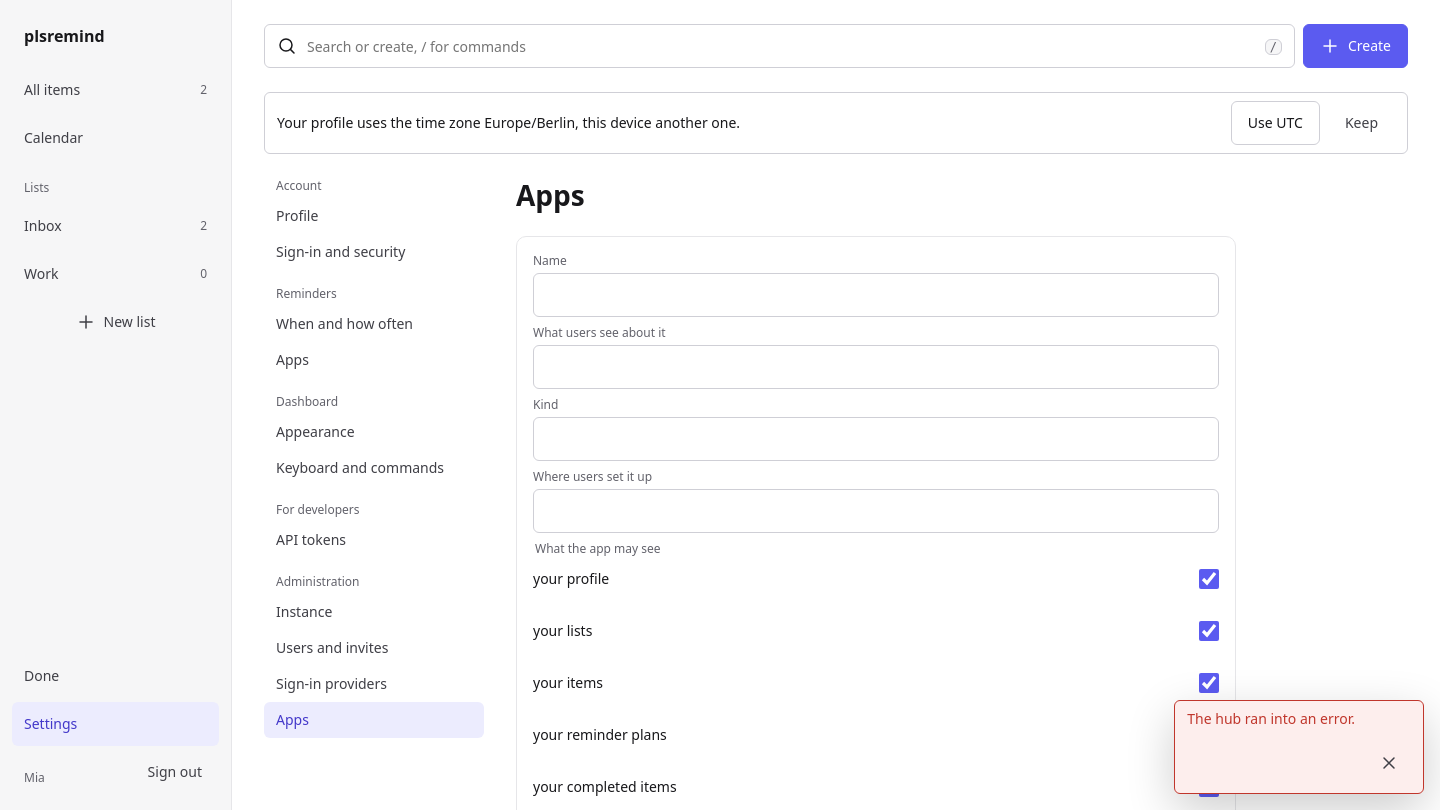
Scenario: an app added while the list did not load brings the whole list
Step 1. Type "Hook" into the field labelled "Name" → (876, 295), box 533,273 -> 1219,317
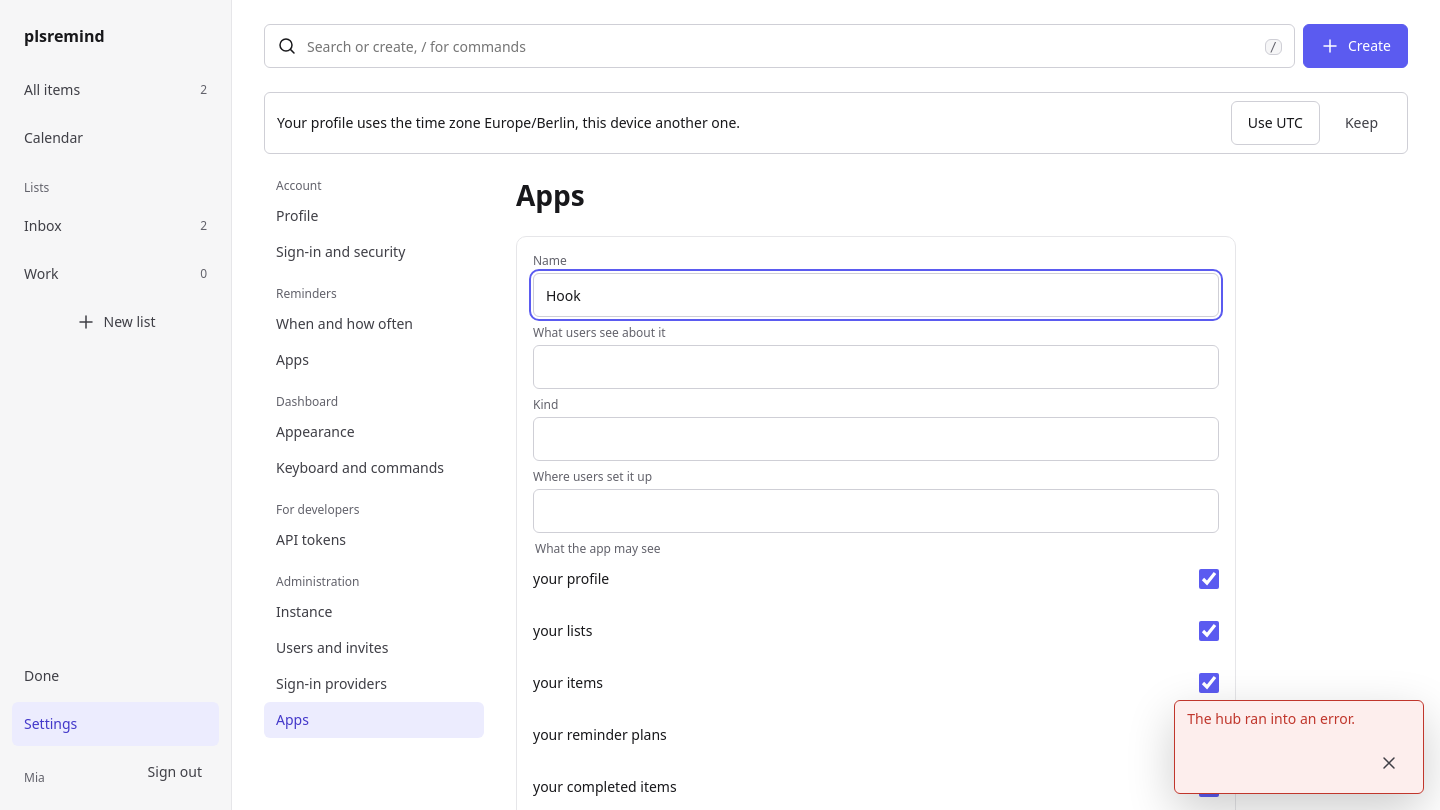
Step 2. Type "corp" into the field labelled "Kind" → (876, 439), box 533,417 -> 1219,461
(page scrolled)
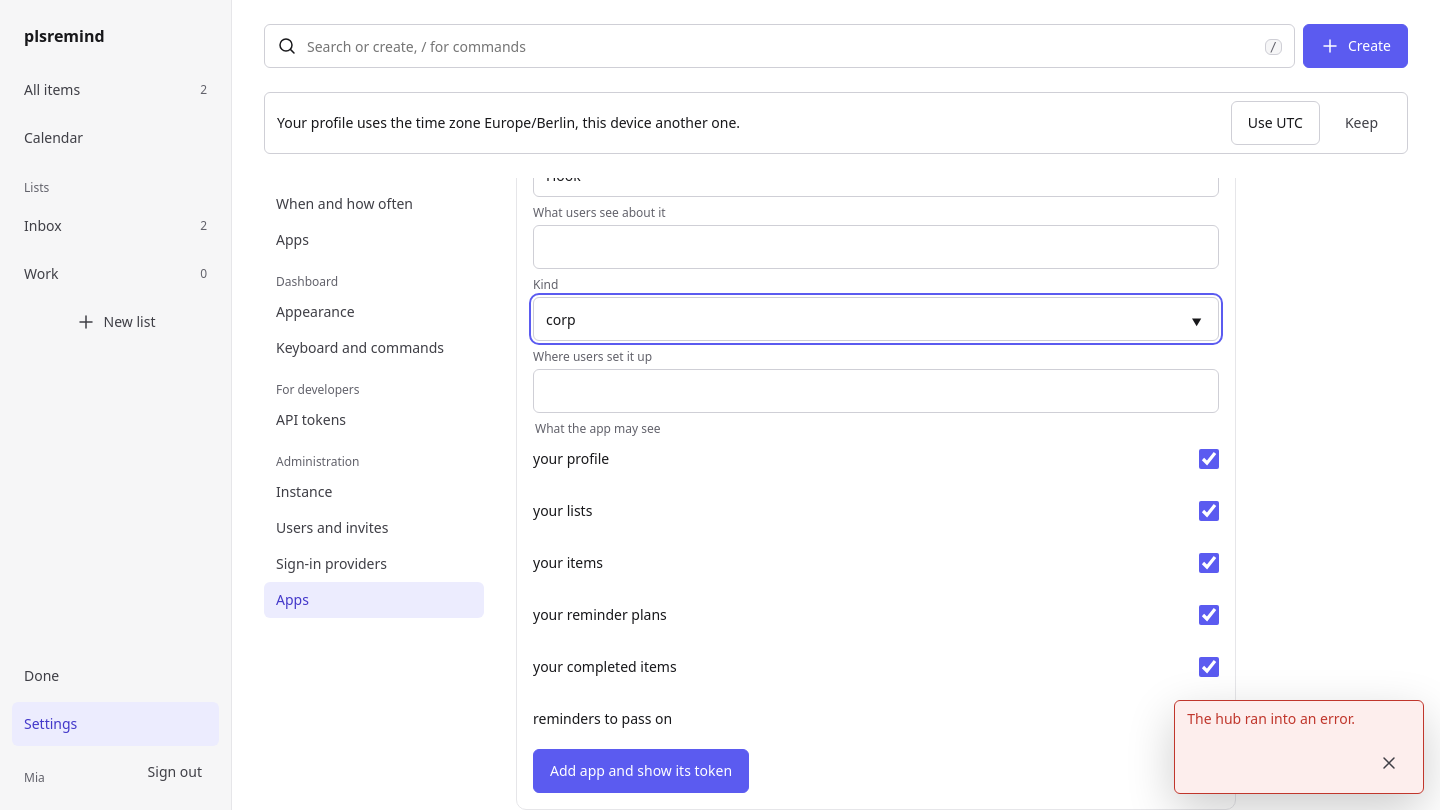
Step 3. Click the button "Add app and show its token" → (641, 771), box 533,749 -> 749,793
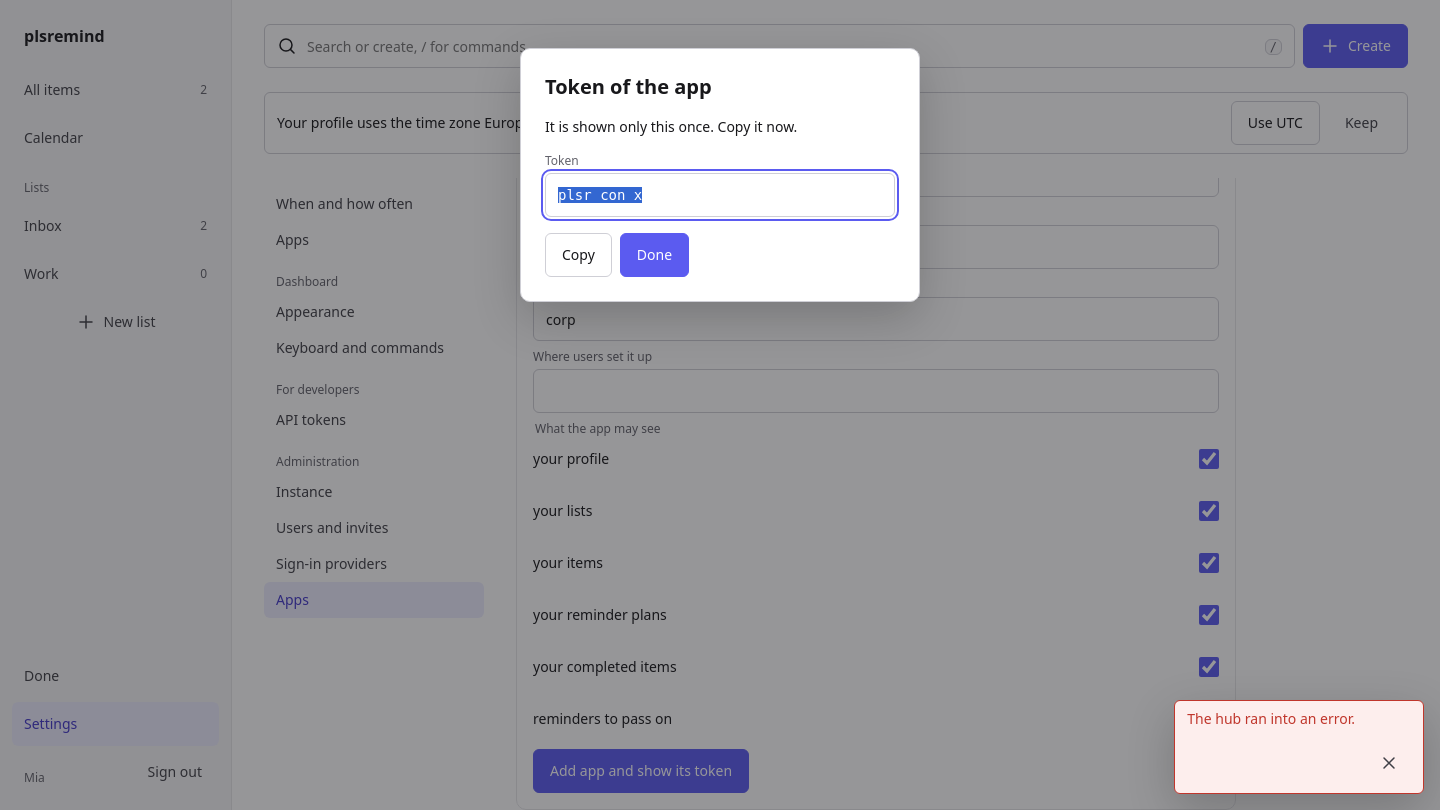
Step 4. Click the button "Done" → (654, 255), box 620,233 -> 689,277
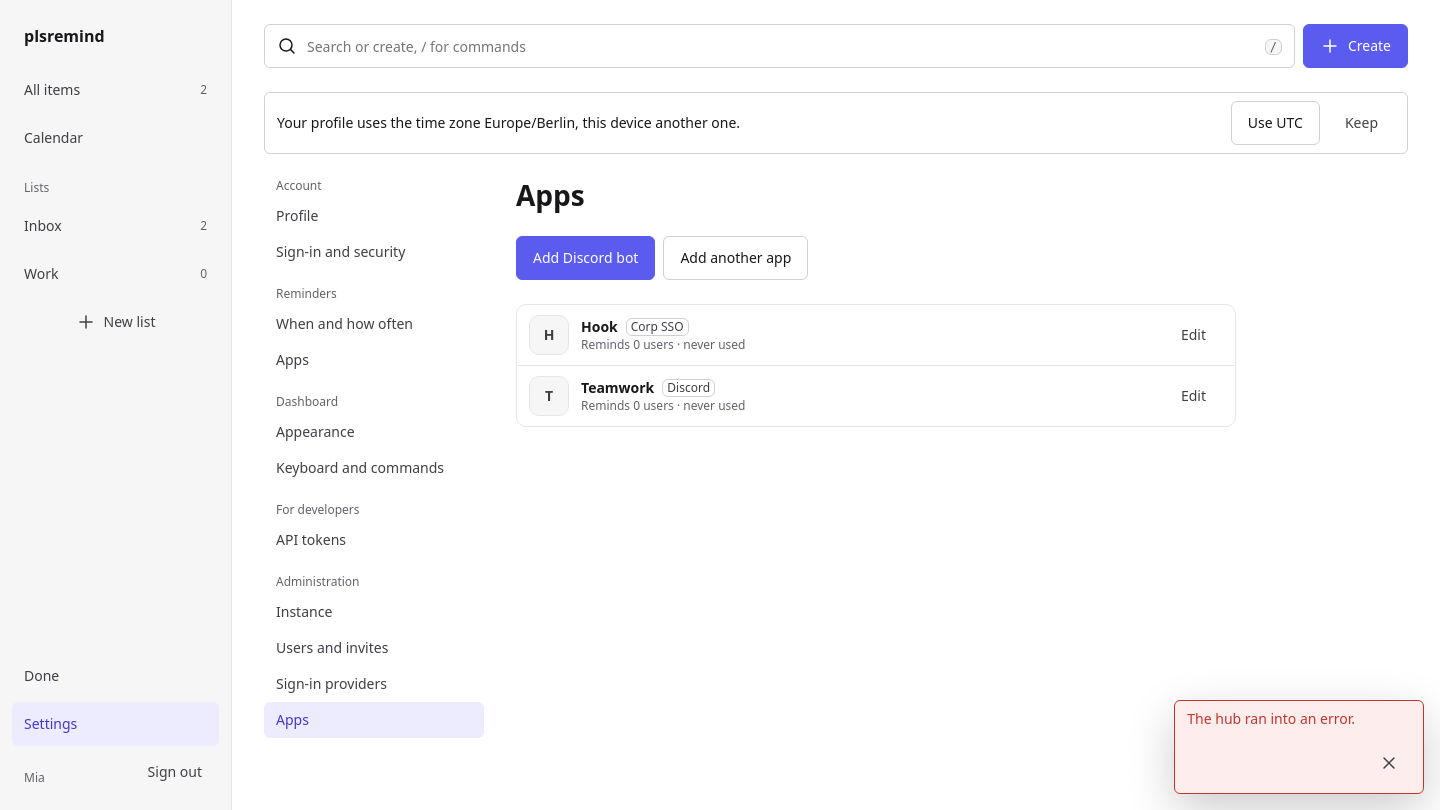
Result: the text "Teamwork" is shown at 581,378 -> 654,398
